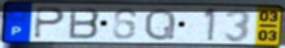1: (202, 6, 218, 43)
3: (223, 7, 254, 45)
6: (111, 7, 139, 41)
B: (67, 6, 102, 40)
P: (32, 5, 67, 40)
Q: (142, 7, 178, 42)
